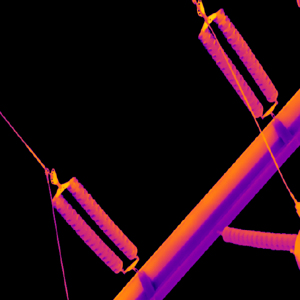insulator: (212, 6, 277, 102), (197, 26, 263, 118), (67, 174, 137, 260), (52, 190, 122, 275), (220, 221, 298, 253)
